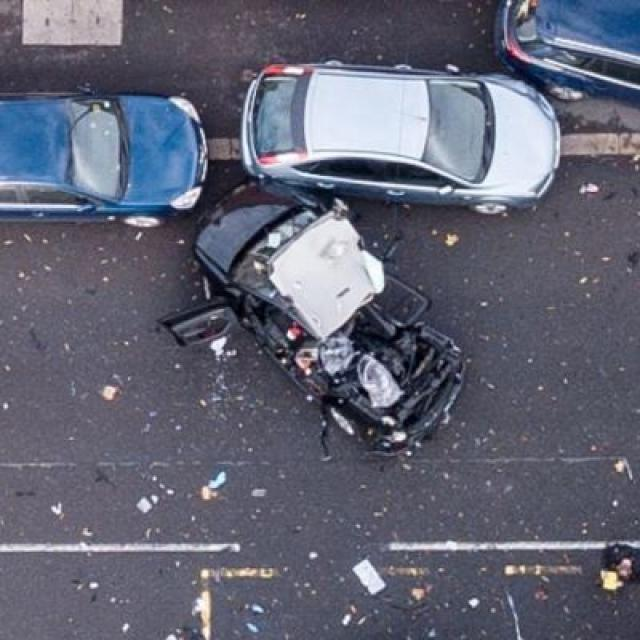traffic_incident: (176, 176, 464, 461)
